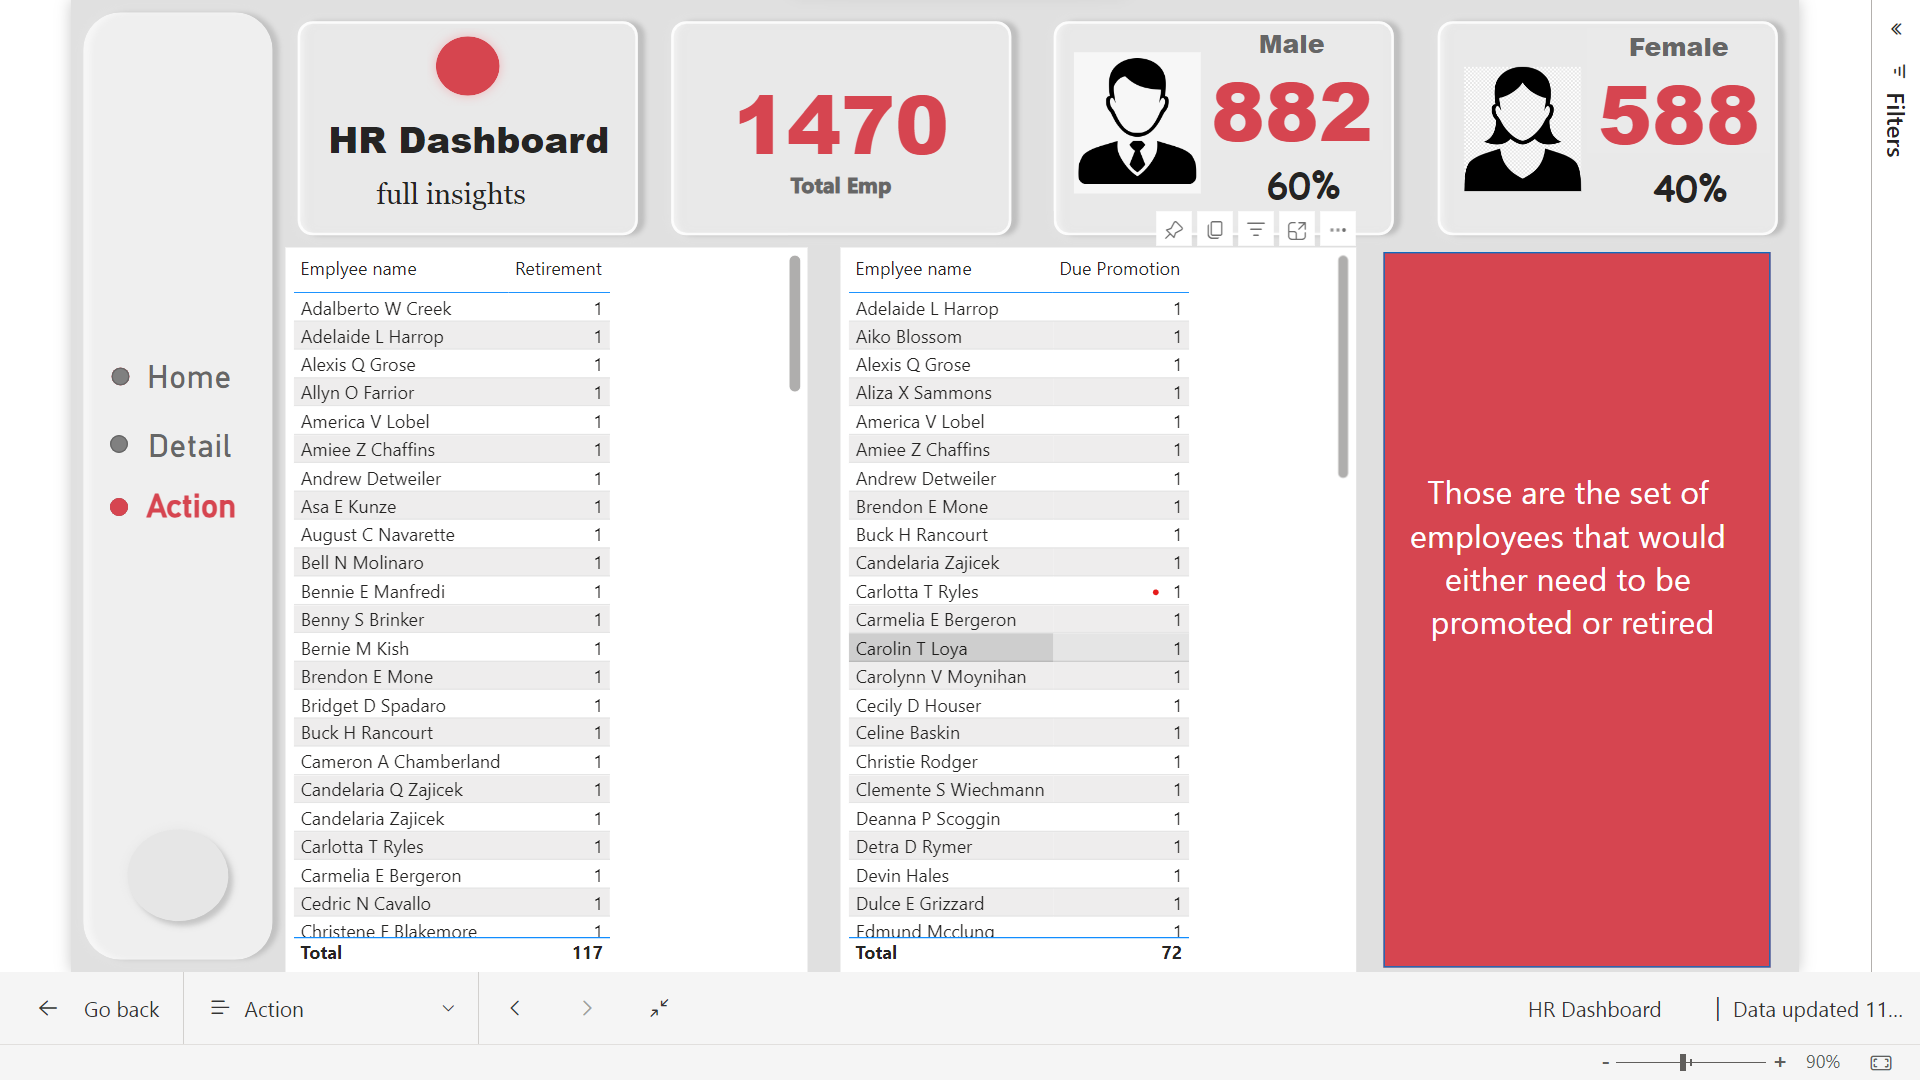

The dashboard page shown, as its layout file describes it:
{"tool":"powerbi","page":{"name":"Action","canvas":[1280,720],"ordinal":2},"visuals":[{"type":"shape","box":[0,0,158.3,720],"z":0},{"type":"shape","box":[30,603.3,98.3,90],"z":1000},{"type":"shape","box":[158.3,6.7,270,176.7],"z":2000},{"type":"shape","box":[435,6.7,270,176.7],"z":3000},{"type":"shape","box":[718.3,6.7,270,176.7],"z":4000},{"type":"shape","box":[1003.3,6.7,270,176.7],"z":5000},{"type":"textbox","box":[185,78.3,226.7,98.3],"z":6000},{"type":"shape","box":[261.7,18.3,63.3,60],"z":7000},{"type":"card","fields":{"Values":["Measures (2).Total Employees"]},"box":[456.7,18.3,226.7,158.3],"z":8000},{"type":"card","title":"Male","fields":{"Values":["Measures (2).Male"]},"box":[836.7,18.3,135,91.7],"z":9000},{"type":"card","fields":{"Values":["Measures (2).Male %"]},"box":[873.3,110,78.3,55],"z":10000},{"type":"card","title":"Female","fields":{"Values":["Measures (2).Female"]},"box":[1123.4,20.9,135,91.7],"z":11000},{"type":"card","fields":{"Values":["Measures (2).%Female"]},"box":[1160.1,112.5,78.3,55],"z":12000},{"type":"image","box":[1026.7,41.7,96.7,106.7],"z":13000},{"type":"image","box":[725,33.3,128.3,115],"z":14000},{"type":"shape","box":[28.3,321.7,13.3,13.3],"z":15000},{"type":"shape","box":[28.3,368.3,13.3,13.3],"z":16000},{"type":"shape","box":[28.3,368.3,13.3,13.3],"z":17000},{"type":"shape","box":[30,271.7,13.3,13.3],"z":18000},{"type":"shape","box":[28.3,368.3,13.3,13.3],"z":19000},{"type":"shape","box":[30,271.7,13.3,13.3],"z":20000},{"type":"tableEx","fields":{"Values":["HR Analytics Data.Emplyee name","Measures (2).Retirement"]},"box":[158.3,183.3,386.7,536.7],"z":21000},{"type":"tableEx","fields":{"Values":["HR Analytics Data.Emplyee name","Measures (2).Due Promotion"]},"box":[570,183.3,381.7,536.7],"z":22000},{"type":"shape","box":[971.7,186.7,286.7,530],"z":23000},{"type":"textbox","box":[971.7,341.7,280,218.3],"z":24000},{"type":"actionButton","title":"Detail","box":[18.3,315,138.3,40],"z":25000},{"type":"actionButton","title":"Action","box":[20,360,138.3,58.3],"z":26000},{"type":"actionButton","title":"Home","box":[17.7,264.7,139.8,54.1],"z":27000}]}

Visuals, with their boxes on the page's 1280x720 design canvas (x1, y1, x2, y2). These are canvas units, not pixel positions in the 1920x1080 screenshot, which may show the page scaled, cropped or inside an application window:
shape: [0, 0, 158, 720]
shape: [30, 603, 128, 693]
shape: [158, 7, 428, 183]
shape: [435, 7, 705, 183]
shape: [718, 7, 988, 183]
shape: [1003, 7, 1273, 183]
textbox: [185, 78, 412, 177]
shape: [262, 18, 325, 78]
card - Measures (2).Total Employees: [457, 18, 683, 177]
"Male" card: [837, 18, 972, 110]
card - Measures (2).Male %: [873, 110, 952, 165]
"Female" card: [1123, 21, 1258, 113]
card - Measures (2).%Female: [1160, 112, 1238, 168]
image: [1027, 42, 1123, 148]
image: [725, 33, 853, 148]
shape: [28, 322, 42, 335]
shape: [28, 368, 42, 382]
shape: [28, 368, 42, 382]
shape: [30, 272, 43, 285]
shape: [28, 368, 42, 382]
shape: [30, 272, 43, 285]
tableEx - HR Analytics Data.Emplyee name x Measures (2).Retirement: [158, 183, 545, 720]
tableEx - HR Analytics Data.Emplyee name x Measures (2).Due Promotion: [570, 183, 952, 720]
shape: [972, 187, 1258, 717]
textbox: [972, 342, 1252, 560]
"Detail" actionButton: [18, 315, 157, 355]
"Action" actionButton: [20, 360, 158, 418]
"Home" actionButton: [18, 265, 158, 319]
